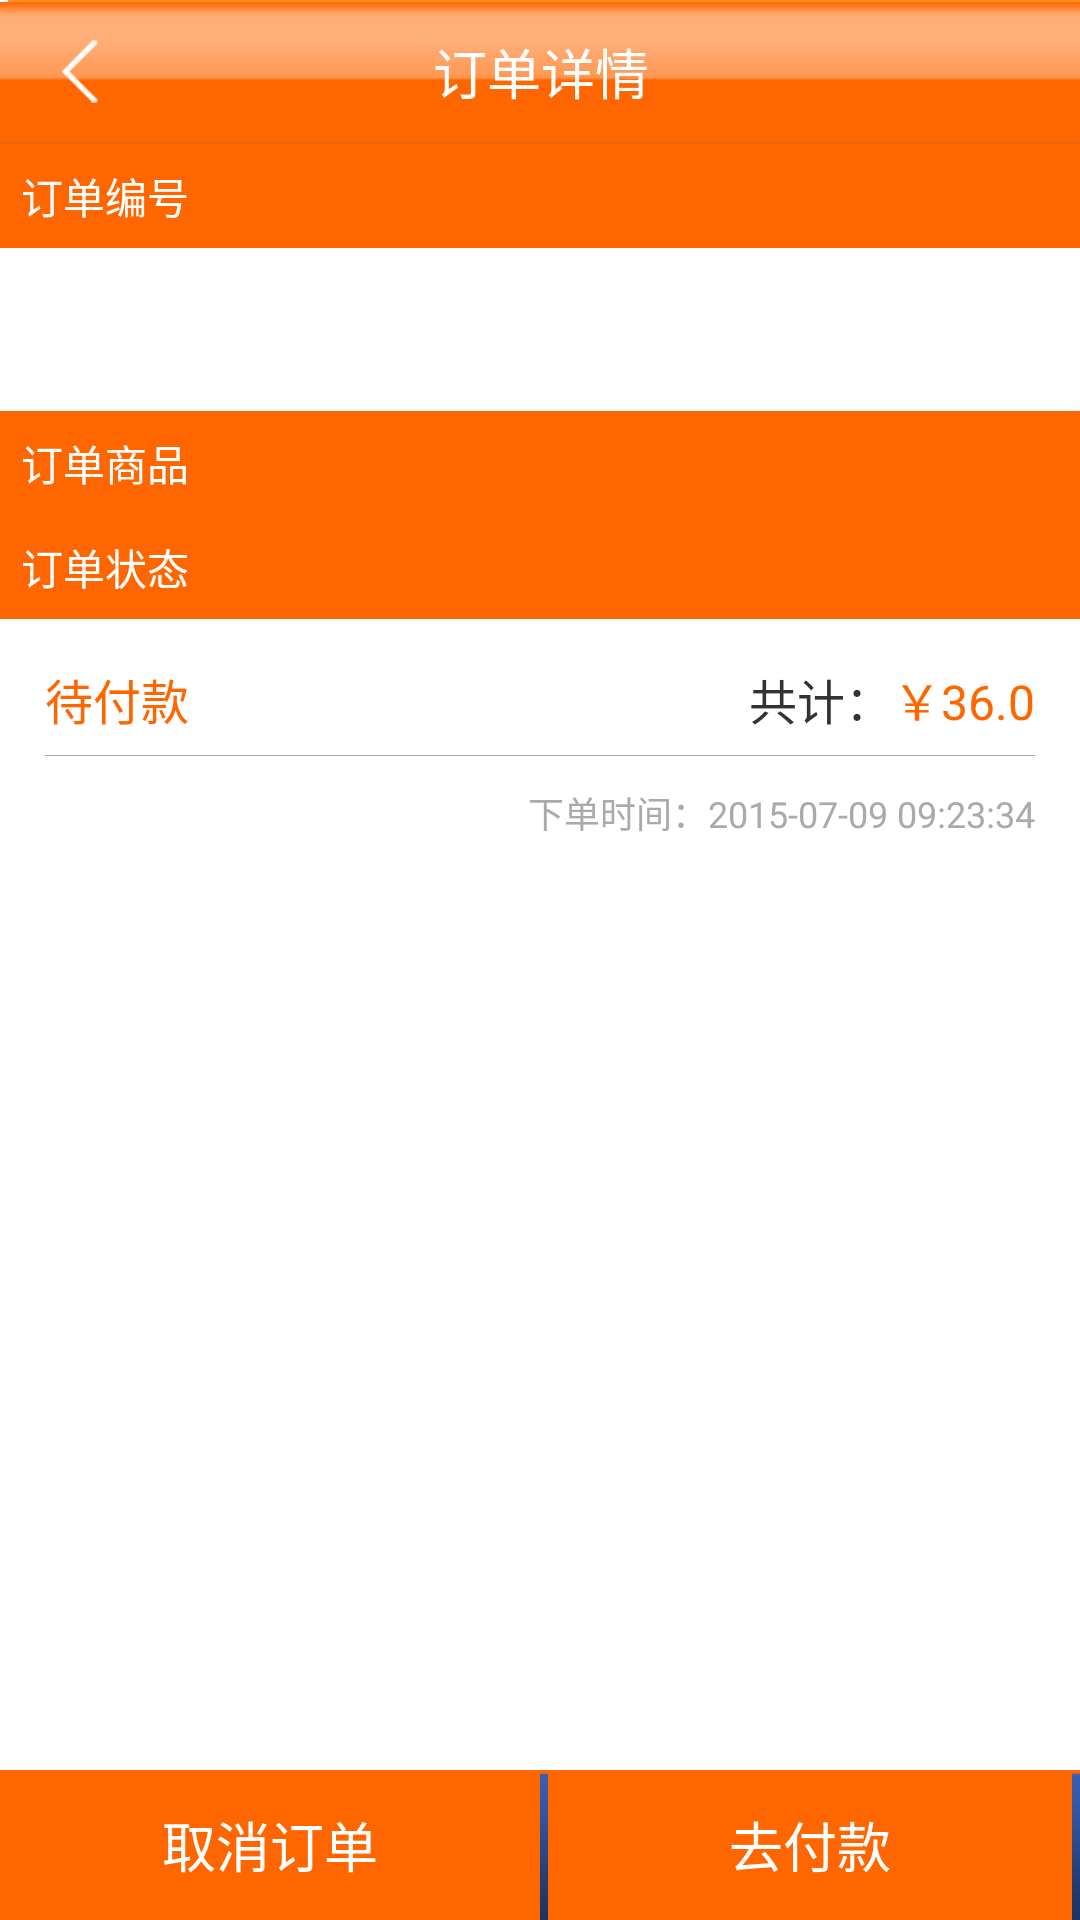

Named icons in this screenshot (1080*1920) and their centers, [x,y]:
back: [80,71]
